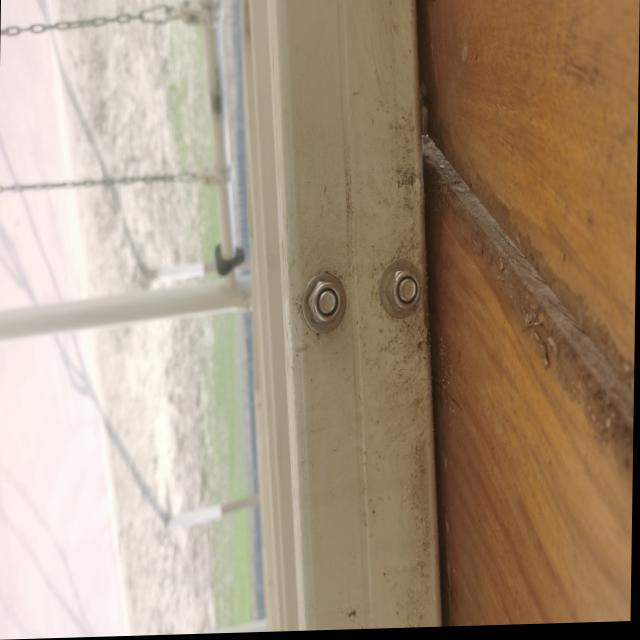Regular bolt: (386, 271, 424, 318), (308, 282, 344, 329)
